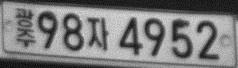2: (196, 19, 219, 59)
4: (118, 17, 143, 55)
5: (171, 18, 193, 58)
8: (62, 12, 84, 51)
9: (36, 9, 58, 48), (143, 17, 165, 56)
광주_V: (14, 7, 36, 48)
자: (86, 17, 108, 50)
